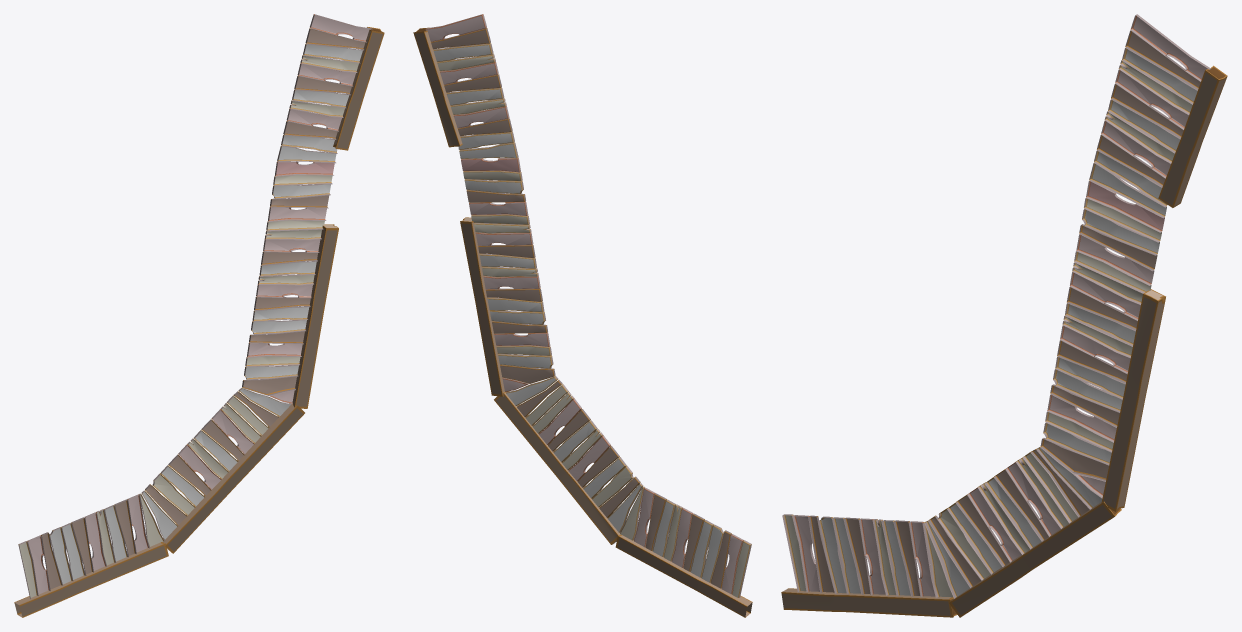
File: BlizzardWoodPlatform.fbx
3 renders of one model, left to right at view 1: azimuth 30°, elevation 25°; view 2: azimuth 150°, elevation 25°; view 3: azimuth 330°, elevation 25°, orthographic. The views are drawn at different scales.
Parts seen in each view (by area): view 1: BlizzardWoodPlatform; view 2: BlizzardWoodPlatform; view 3: BlizzardWoodPlatform.
Part boxes in pixels (box(x1,y1,x2,y2)): BlizzardWoodPlatform: box(14, 14, 384, 617); BlizzardWoodPlatform: box(413, 14, 752, 617); BlizzardWoodPlatform: box(781, 14, 1227, 617).
Size of the model in its own units: 1492 by 2176 by 137.
